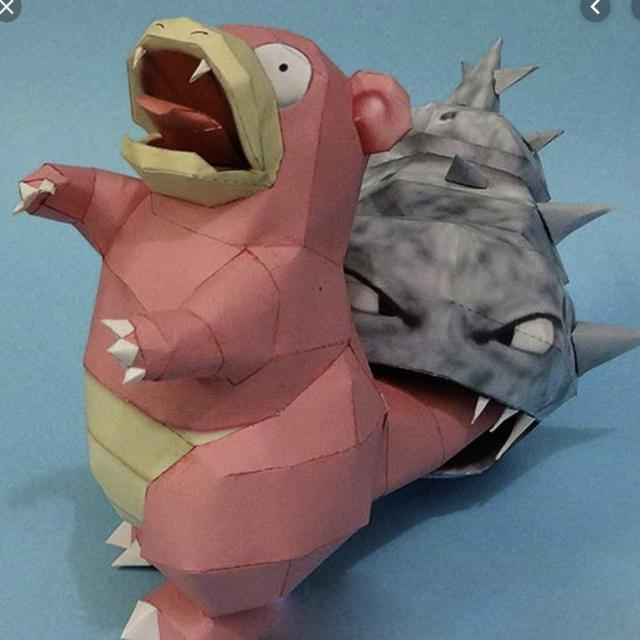Slowbro: (70, 18, 564, 576)
